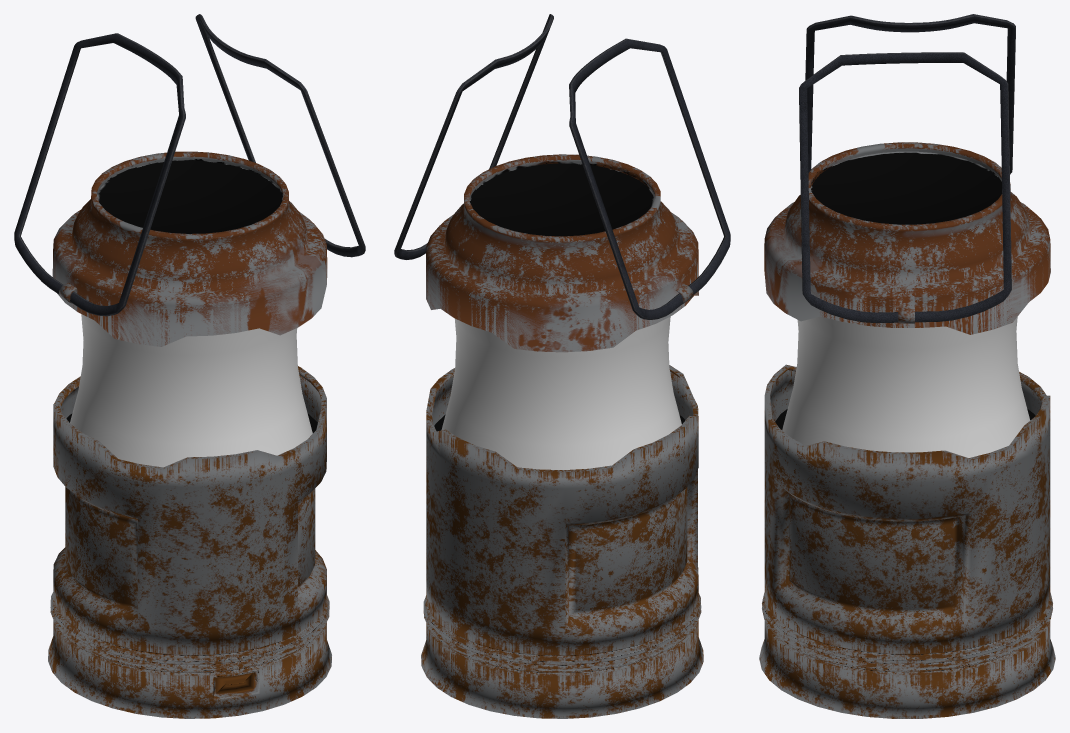
The model's file is sci fi lantern.fbx.
3 views of the same model, side by side, from view 1: azimuth 30°, elevation 25°; view 2: azimuth 150°, elevation 25°; view 3: azimuth 270°, elevation 25° (orthographic). The views are drawn at different scales.
Visible parts, largest first — view 1: Bottom Part, Top, Glass, Graple.002, Graple; view 2: Bottom Part, Top, Glass, Graple.002, Graple; view 3: Bottom Part, Top, Glass, Graple, Graple.002.
Boxes of the visible parts, box(x1,y1,x2,y2) form: Bottom Part: box(48, 366, 331, 718); Top: box(52, 151, 327, 346); Glass: box(70, 314, 312, 467); Graple.002: box(14, 33, 185, 316); Graple: box(195, 14, 365, 257); Bottom Part: box(421, 365, 703, 718); Top: box(426, 154, 698, 352); Glass: box(441, 316, 681, 469); Graple.002: box(569, 38, 730, 319); Graple: box(394, 14, 553, 259); Bottom Part: box(759, 364, 1055, 718); Top: box(764, 142, 1050, 334); Glass: box(782, 316, 1030, 457); Graple: box(799, 52, 1011, 323); Graple.002: box(805, 14, 1015, 174).
Size of the model in its own units: 226 by 517 by 223.
